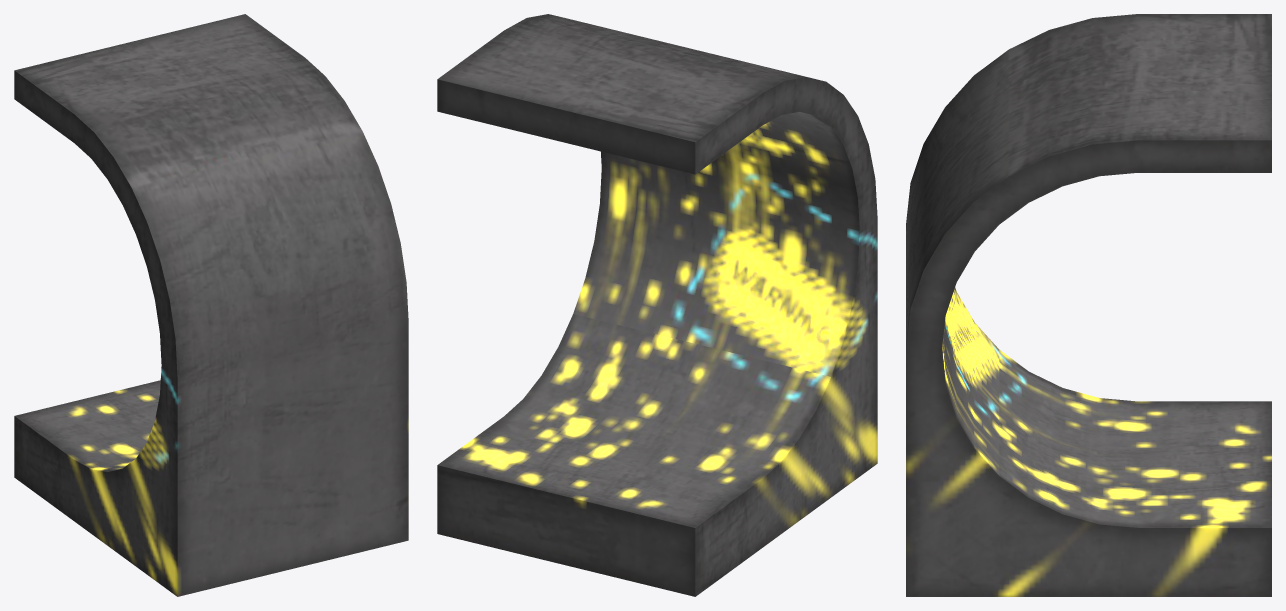
Rendered from duct_hor_floor.fbx.
The picture shows the model from 3 angles, left to right: view 1: azimuth 30°, elevation 25°; view 2: azimuth 150°, elevation 25°; view 3: azimuth 270°, elevation 25°; orthographic projection. The views are drawn at different scales.
Parts seen in each view (by area): view 1: duct_hor_01.001; view 2: duct_hor_01.001; view 3: duct_hor_01.001.
Part boxes in pixels (x1,y1,x2,y2): duct_hor_01.001: (14,14,408,596); duct_hor_01.001: (437,14,877,596); duct_hor_01.001: (906,14,1271,596).
Bounding box in the file's own units: 1776 × 2989 × 2171.
